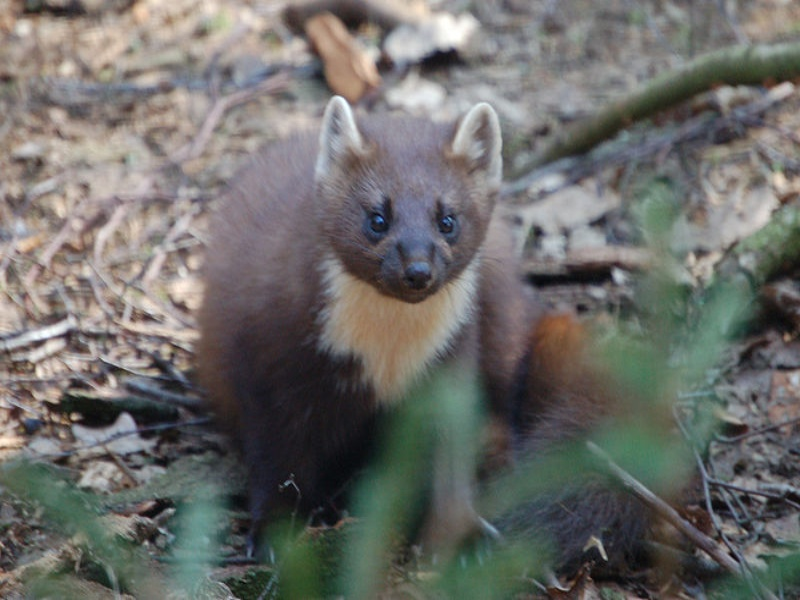minkish: (198, 97, 686, 566)
